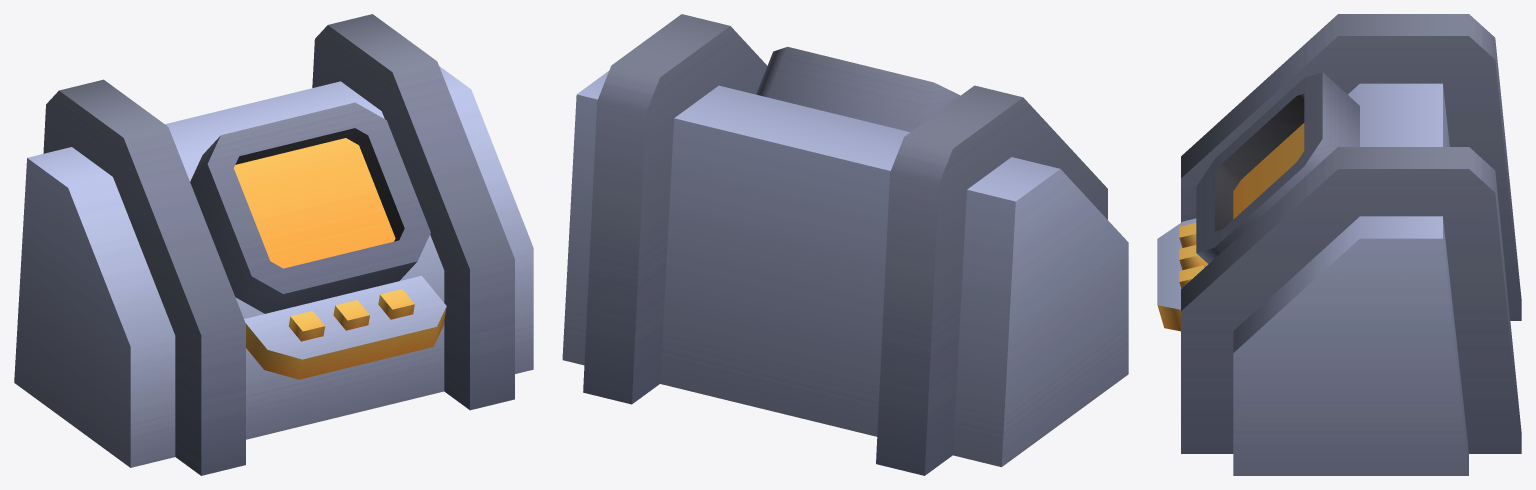
File: station-computer-system.glb
3 renders of one model, left to right at view 1: azimuth 30°, elevation 25°; view 2: azimuth 150°, elevation 25°; view 3: azimuth 270°, elevation 25°, orthographic. The views are drawn at different scales.
Visible parts, largest first — view 1: computer-system; view 2: computer-system; view 3: computer-system.
Boxes of the visible parts, bbox=[...] form: computer-system: bbox=[14, 14, 533, 475]; computer-system: bbox=[562, 14, 1128, 475]; computer-system: bbox=[1157, 14, 1521, 475].
Bounding box in the file's own units: 0.9 × 0.6 × 0.6949.
Materials: 1 (1 with a texture image).
